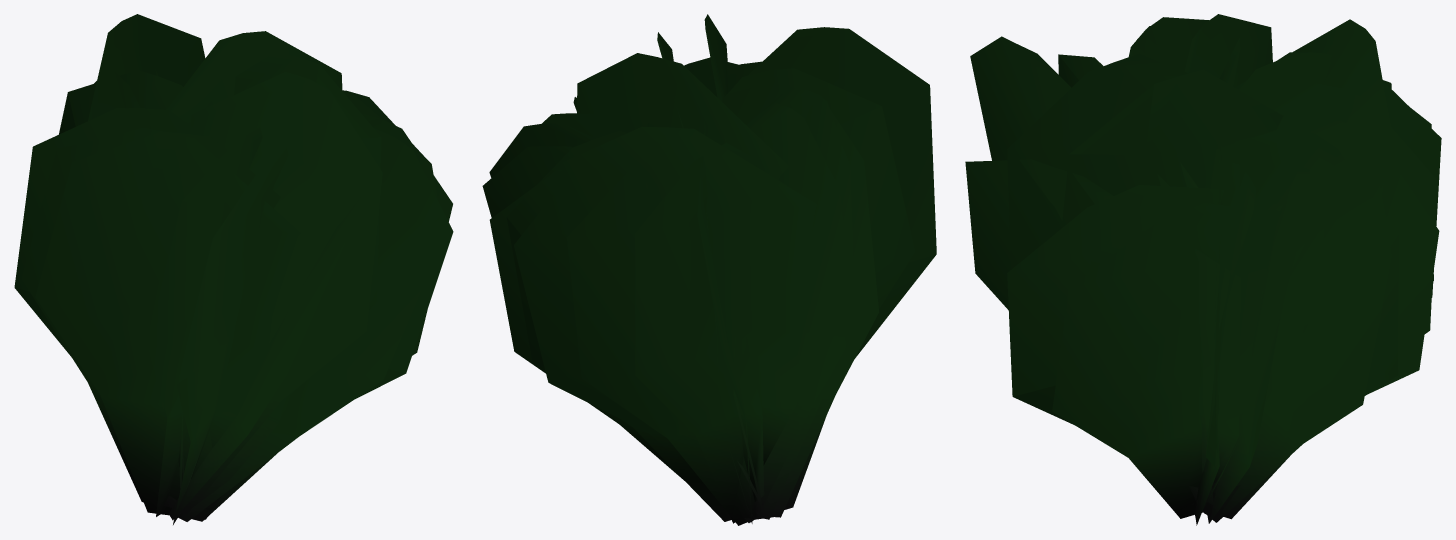
File: M_Bush_02.fbx
The picture shows the model from 3 angles, left to right: view 1: azimuth 30°, elevation 25°; view 2: azimuth 150°, elevation 25°; view 3: azimuth 270°, elevation 25°; orthographic projection. The views are drawn at different scales.
Visible parts, largest first — view 1: M_Brush_02; view 2: M_Brush_02; view 3: M_Brush_02.
Boxes of the visible parts, x1=… form: M_Brush_02: x1=14, y1=14, x2=453, y2=524; M_Brush_02: x1=482, y1=14, x2=936, y2=525; M_Brush_02: x1=965, y1=14, x2=1441, y2=525.
Bounding box in the file's own units: 138 × 153 × 130.
